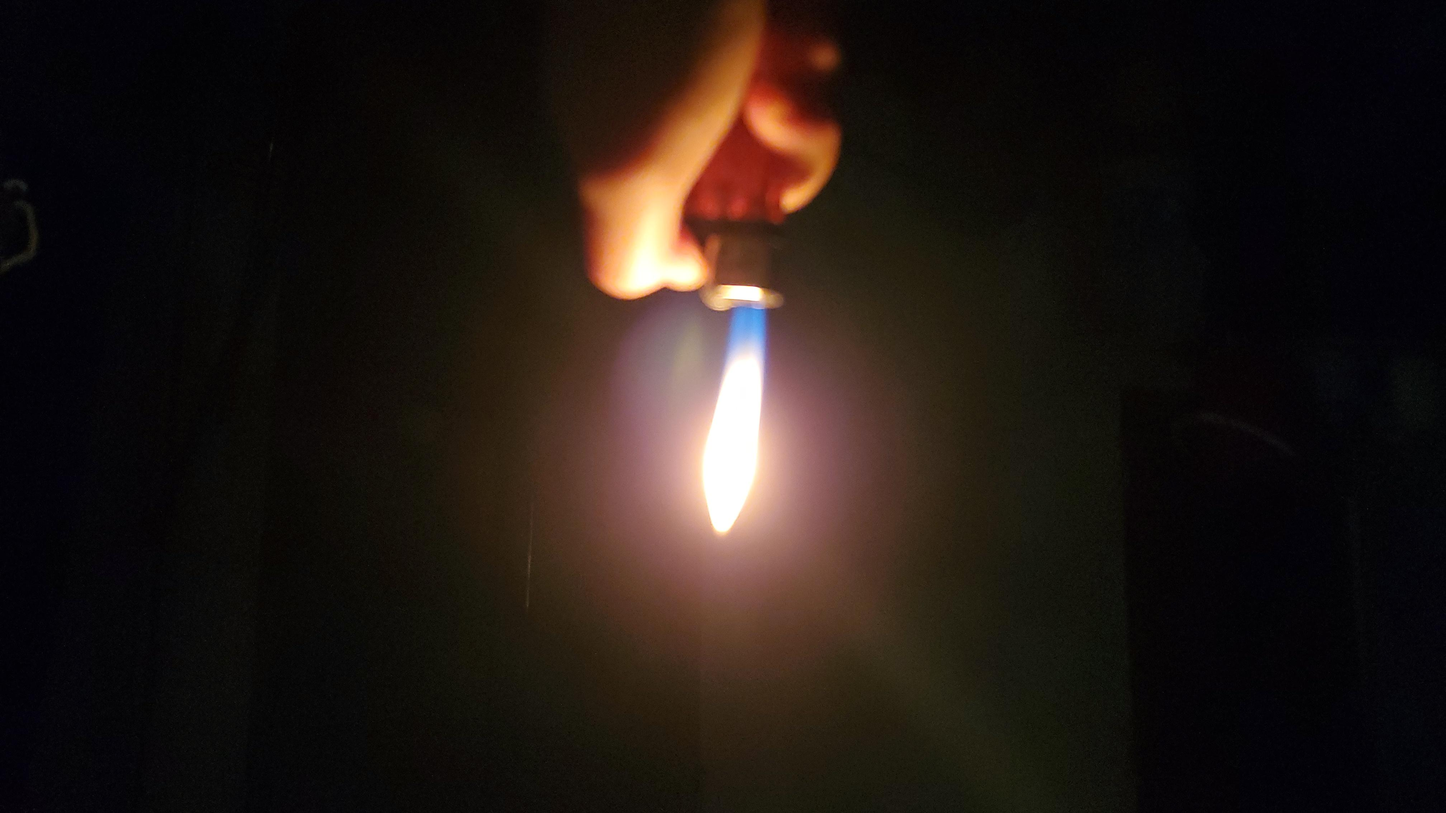fire: (671, 269, 755, 511)
